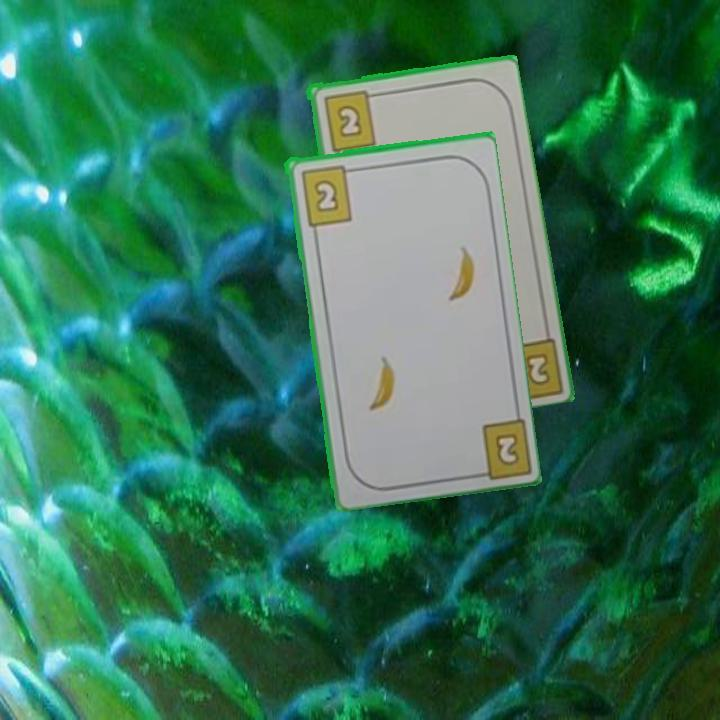2b: (319, 86, 381, 154), (297, 162, 358, 228), (521, 349, 553, 389), (491, 429, 522, 469)
